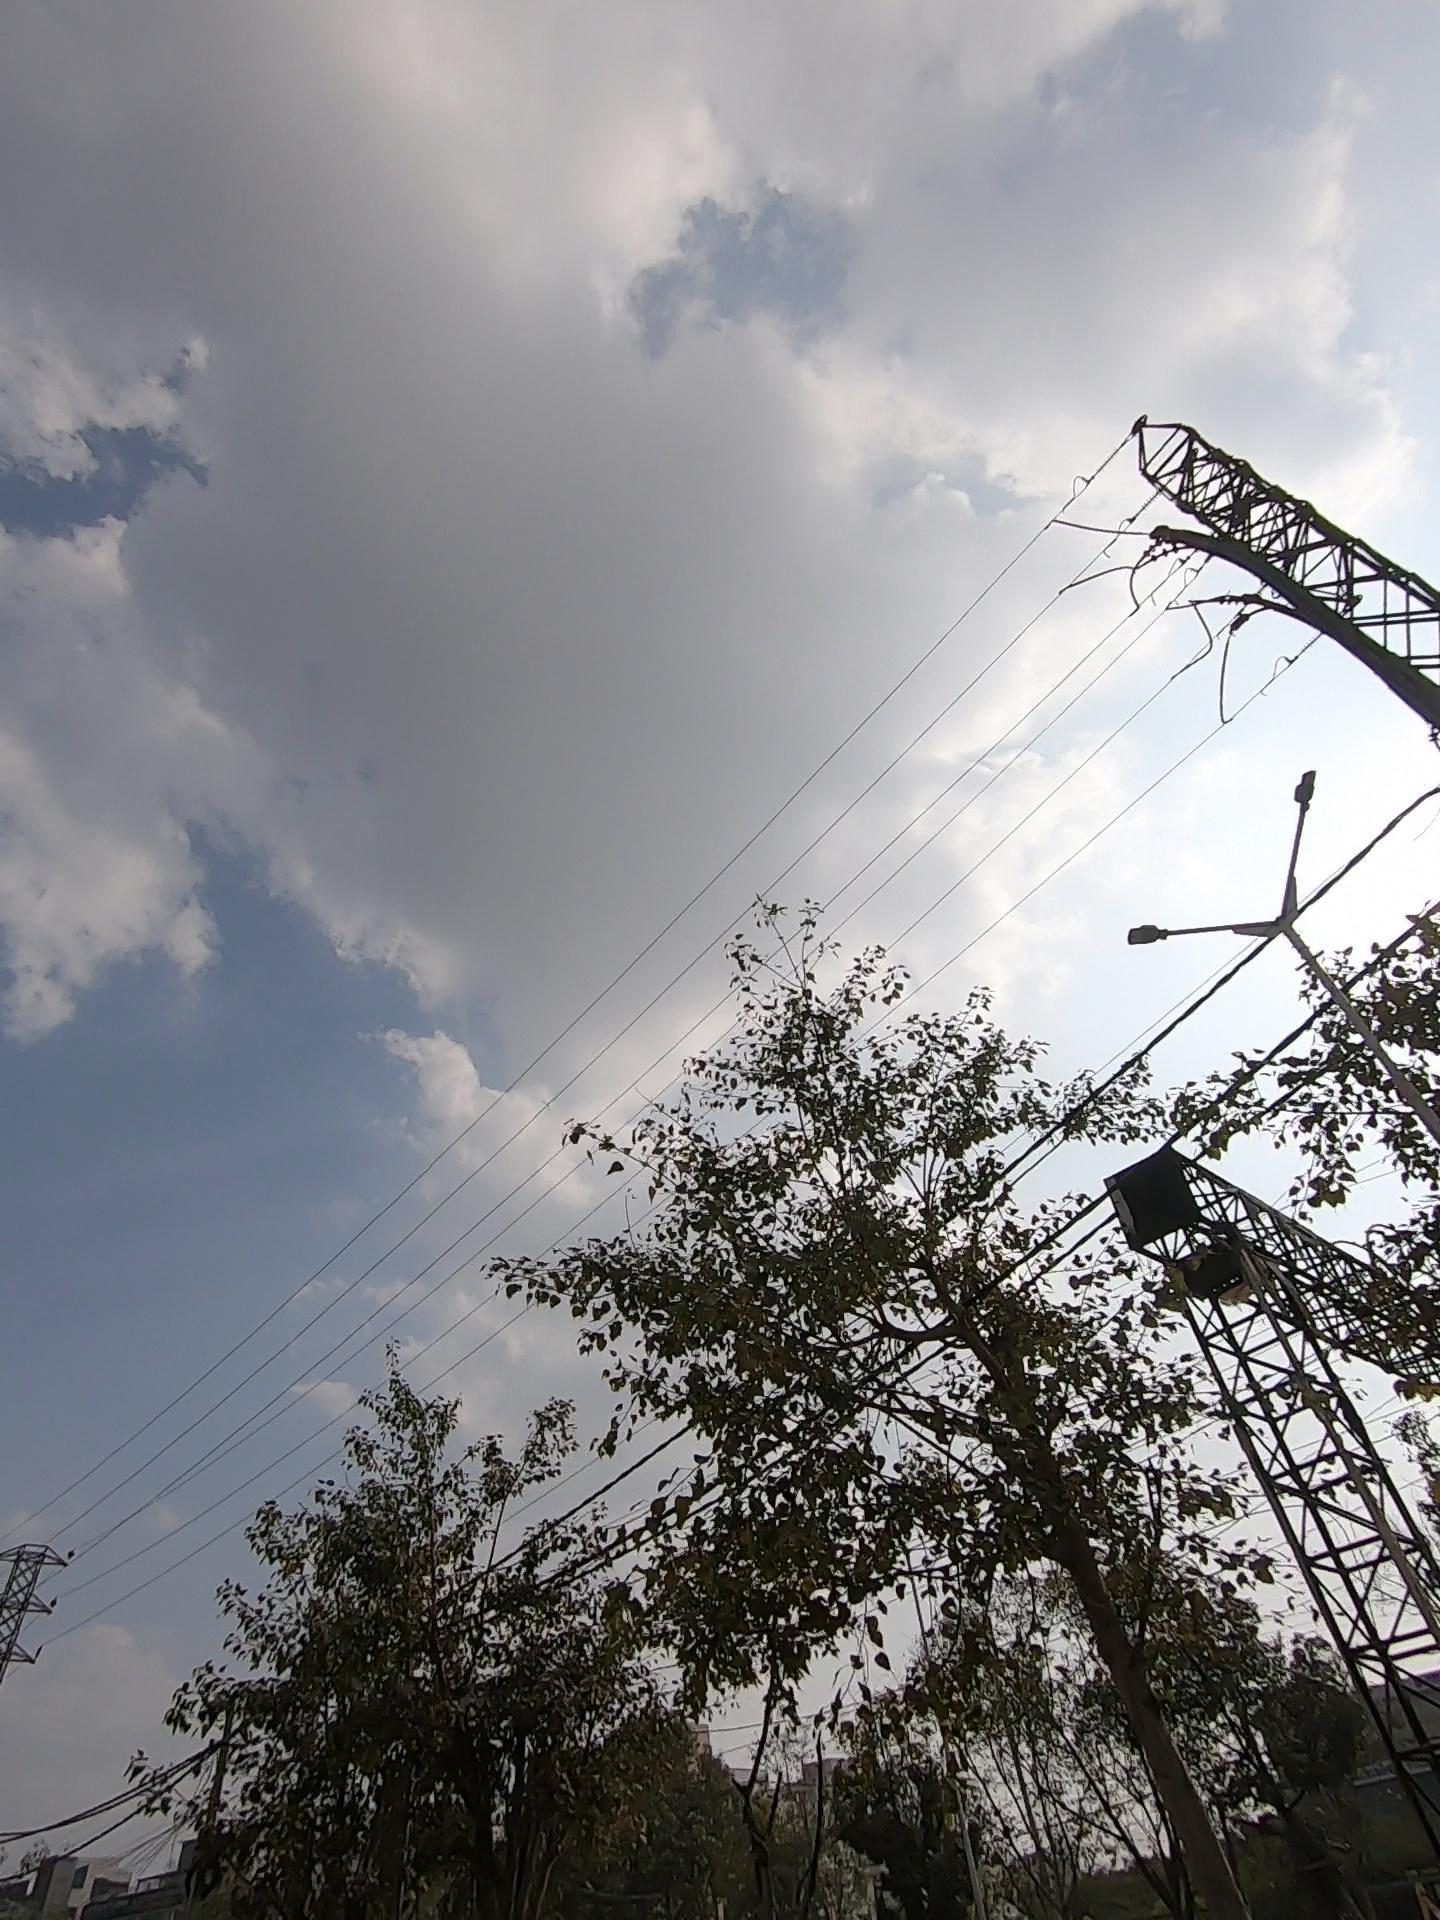off: (1019, 615, 1360, 1023)
